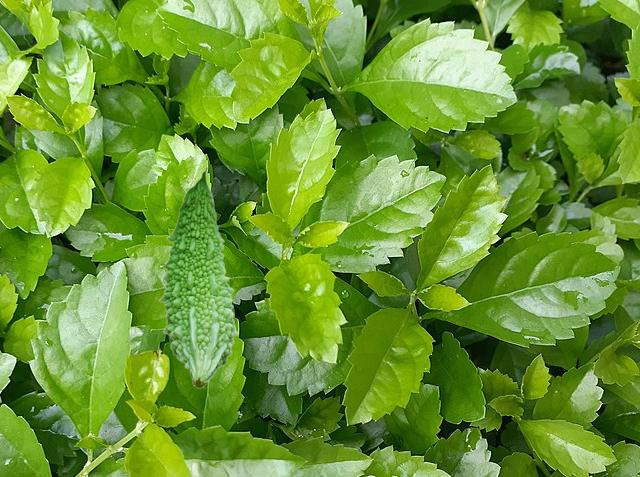ampalaya: (158, 166, 239, 389)
